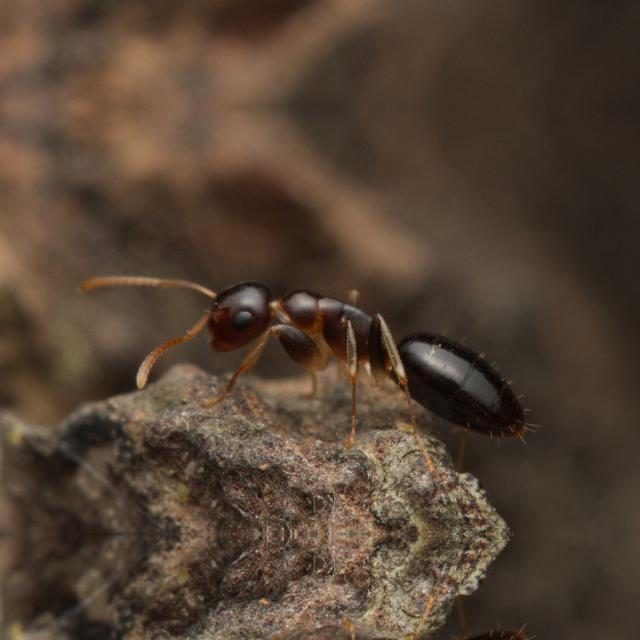Colobopsis: (181, 270, 567, 470), (181, 596, 567, 640)
